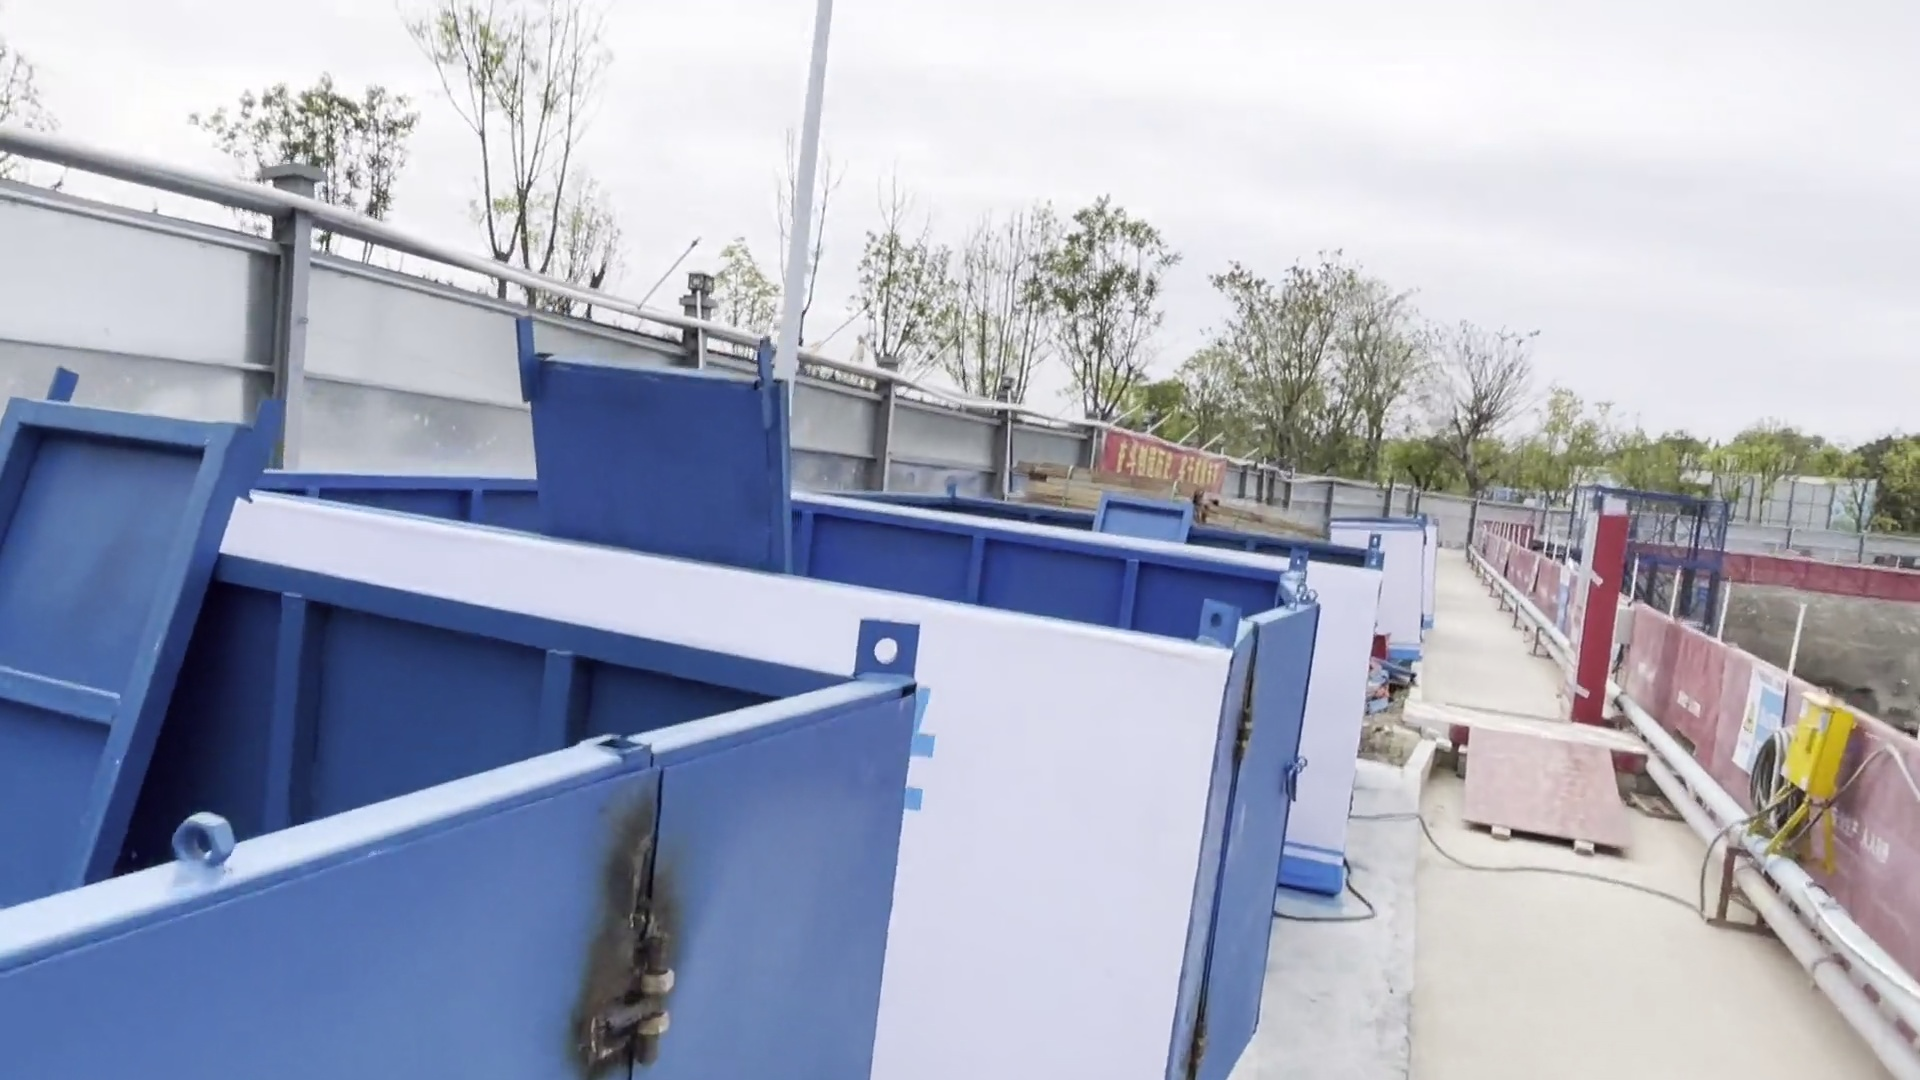board: (1456, 719, 1636, 872)
ebox: (1778, 696, 1867, 812)
fence: (1665, 626, 1920, 972)
slogan: (1097, 430, 1229, 492)
